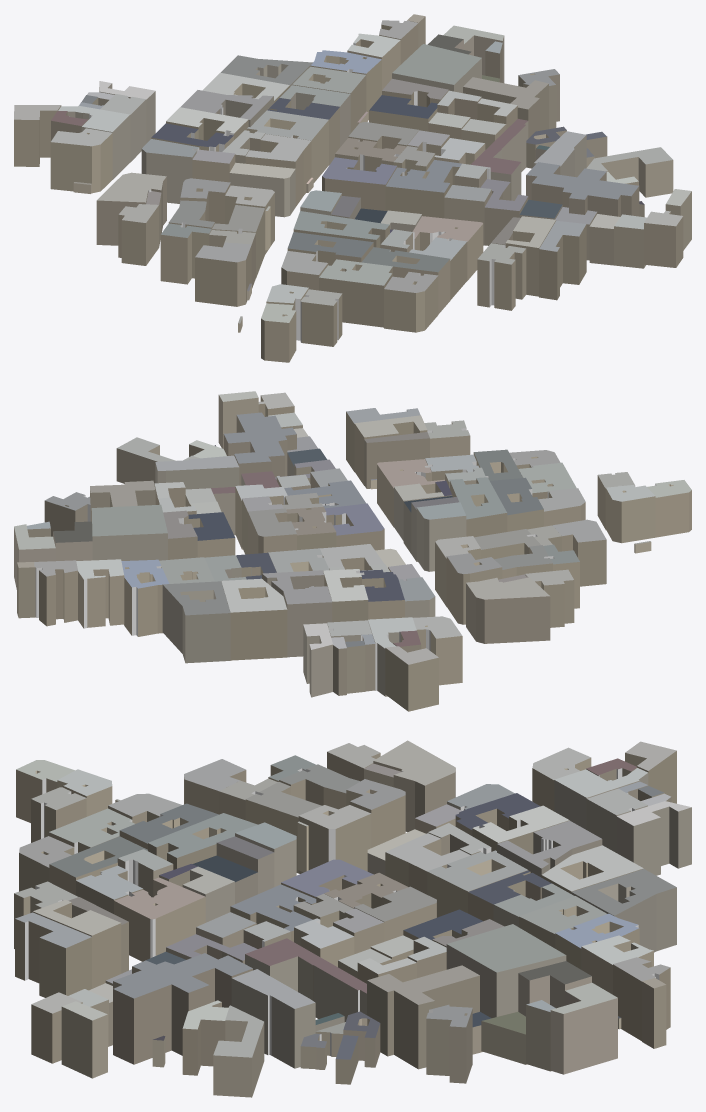
3 renders of one model, top to bottom at view 1: azimuth 30°, elevation 25°; view 2: azimuth 150°, elevation 25°; view 3: azimuth 270°, elevation 25°, orthographic. The views are drawn at different scales.
Visible parts, largest first — view 1: tuile; view 2: tuile; view 3: tuile.
Boxes of the visible parts, x1,y1,x2,y2 form: tuile: [14, 14, 691, 362]; tuile: [14, 391, 691, 711]; tuile: [14, 740, 691, 1097].
Bounding box in the file's own units: 280 × 39.67 × 275.
